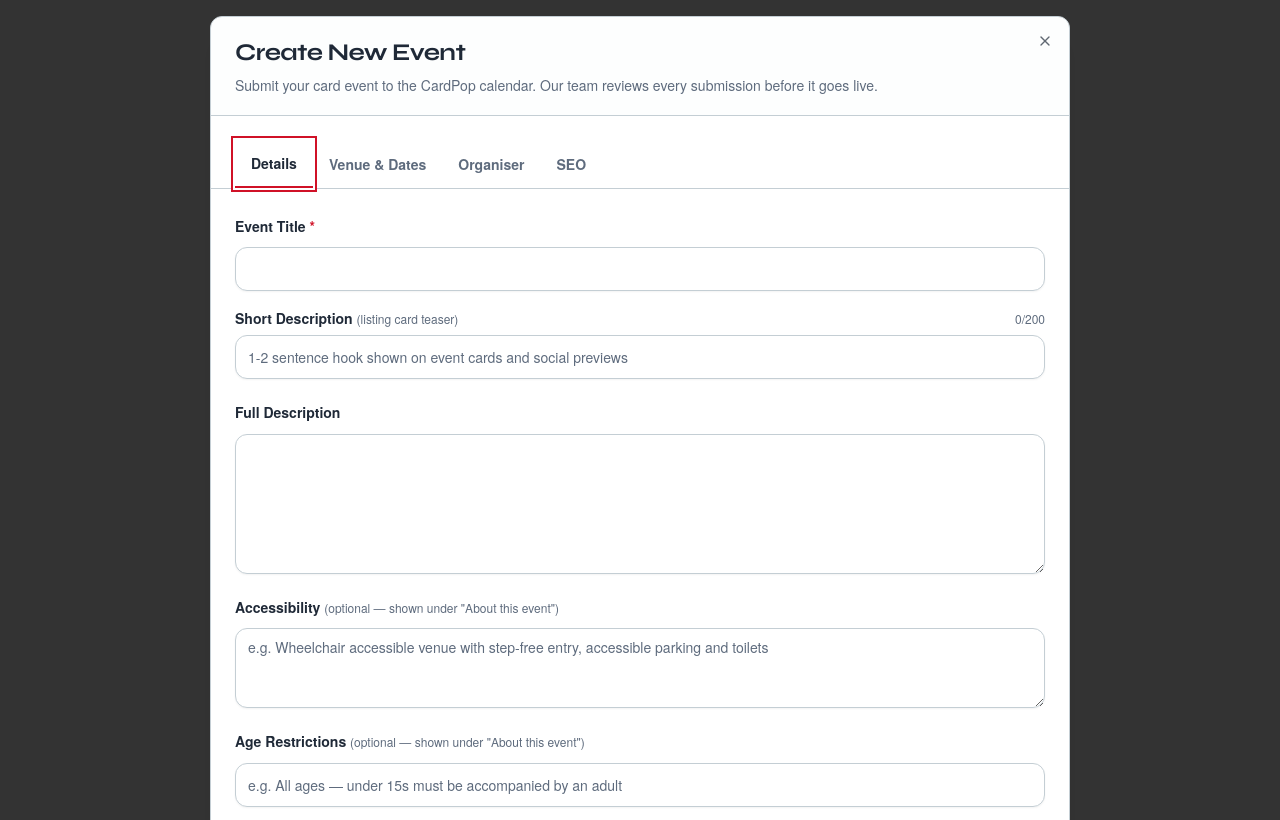
EventFormModal — ticket prices › offers every ticket type once entry is not free
Press the mouse on the tab "Organiser" at (491, 164), box top-left (442, 140), bottom-right (540, 188)
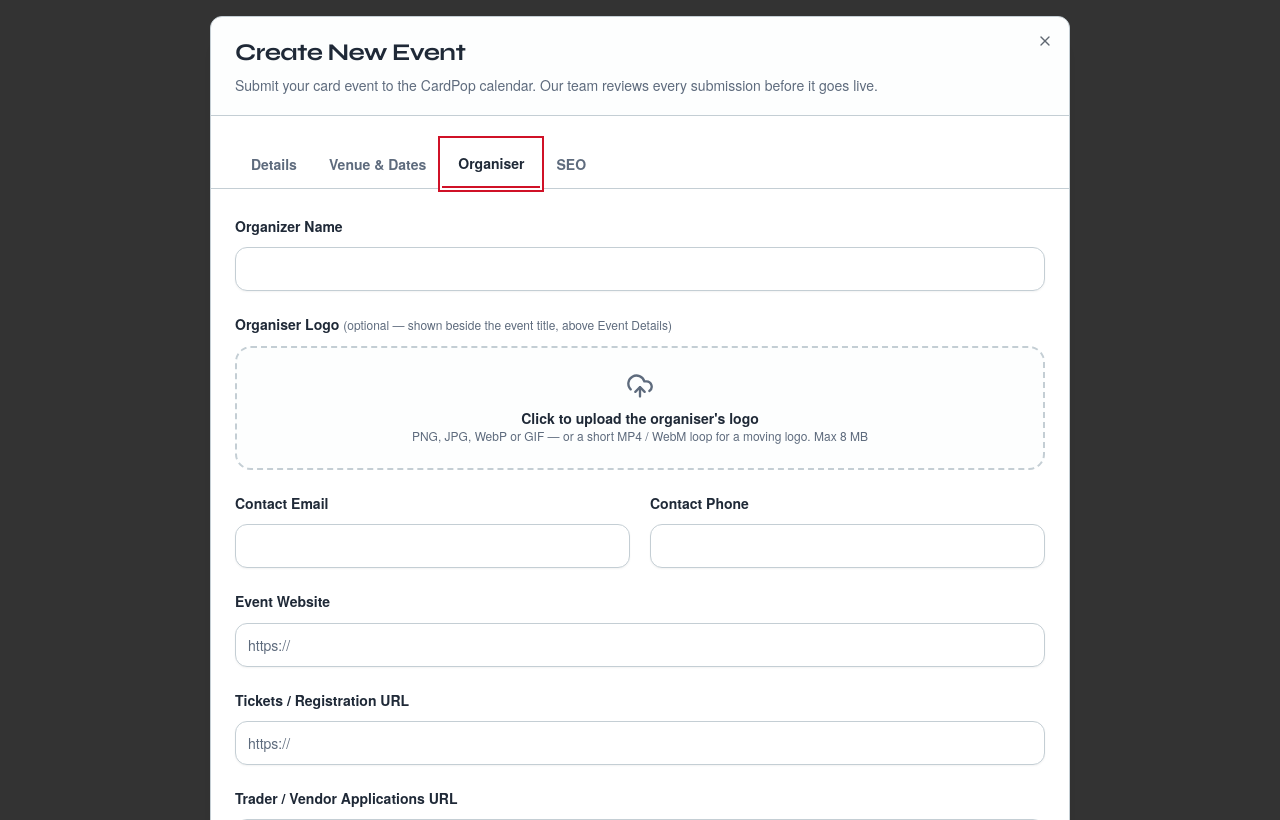
Click the tab "Organiser" at (491, 164), box top-left (442, 140), bottom-right (540, 188)
(page scrolled)
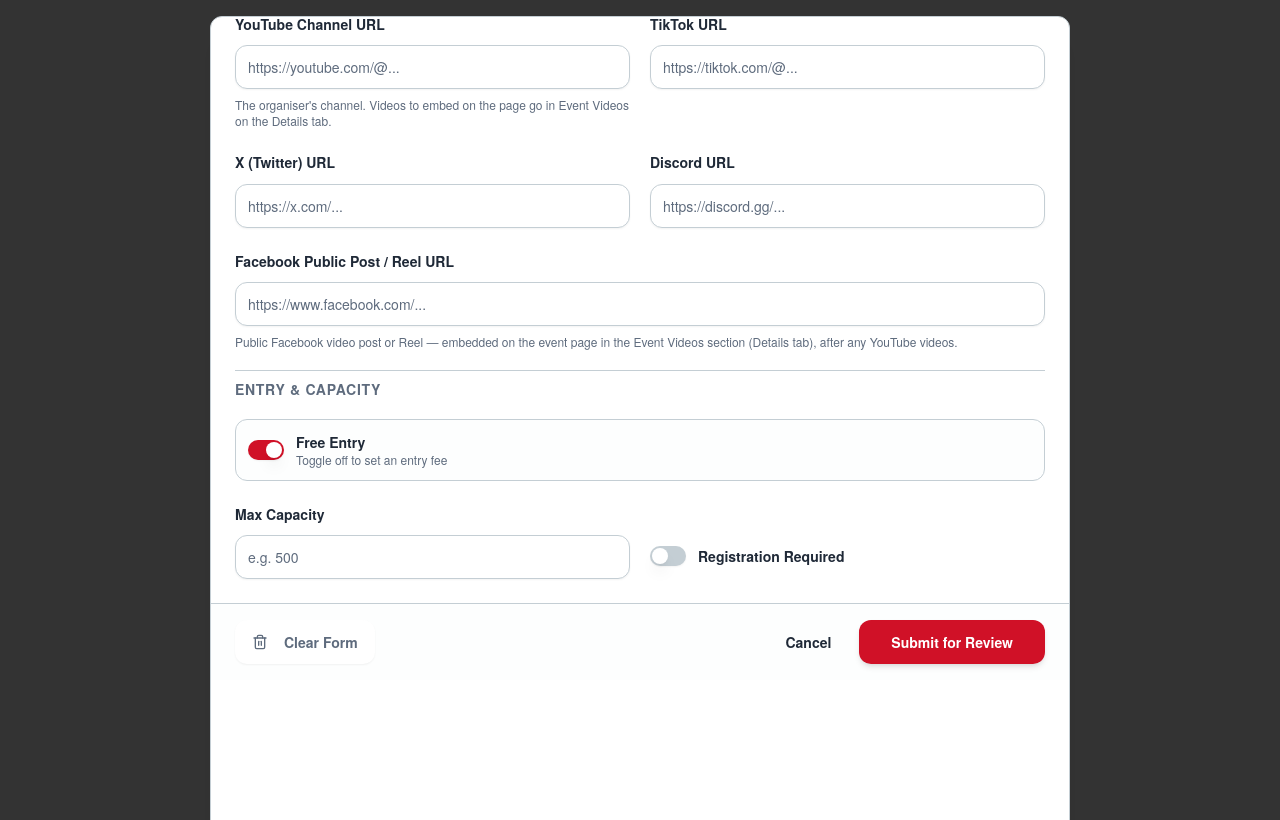
Check: the text "Other Ticket Prices" is not shown
Click the switch next to "Free Entry" at (266, 450), box top-left (248, 440), bottom-right (284, 460)
(page scrolled)
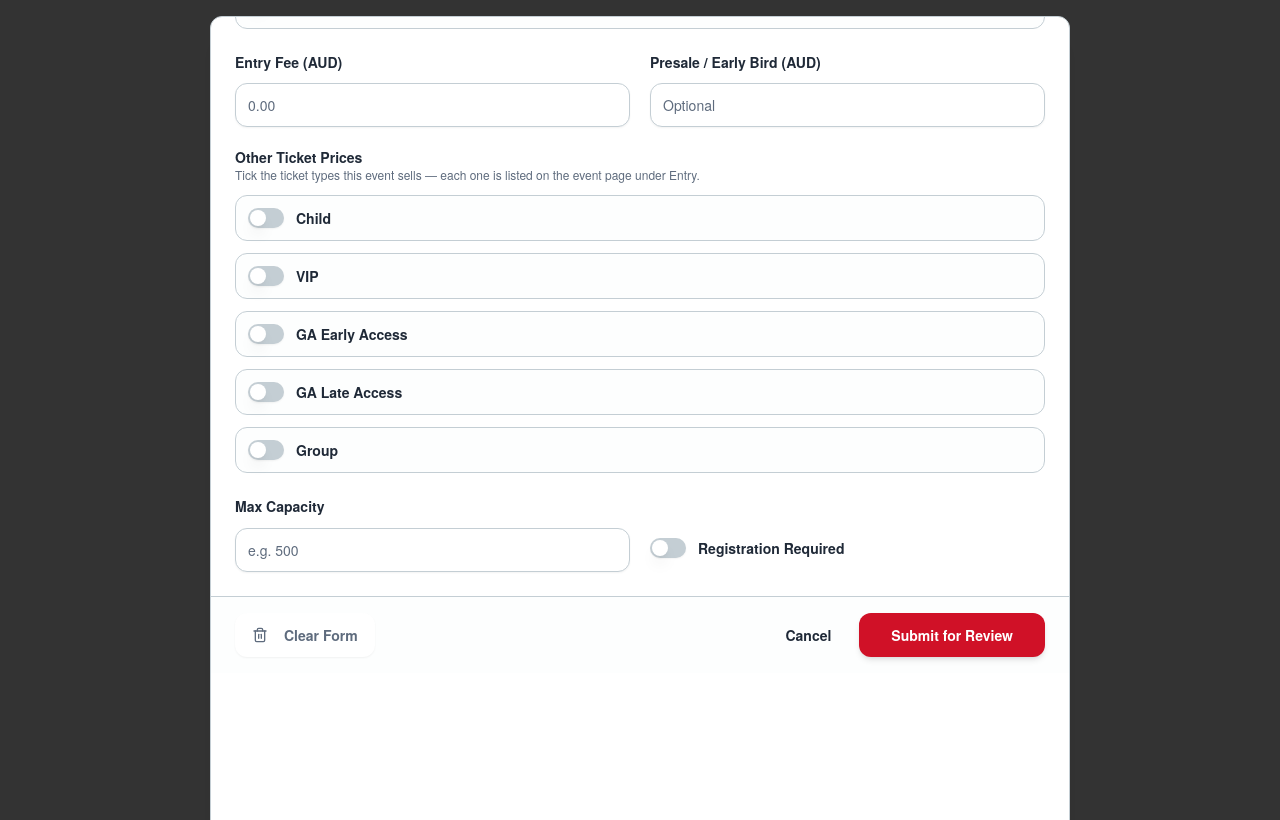
Check: the switch named "Child ticket" is shown, box top-left (248, 208), bottom-right (284, 228)
Check: the switch named "VIP ticket" is shown, box top-left (248, 266), bottom-right (284, 286)
Check: the switch named "GA Early Access ticket" is shown, box top-left (248, 324), bottom-right (284, 344)
Click the switch named "Group tickets" at (266, 450), box top-left (248, 440), bottom-right (284, 460)
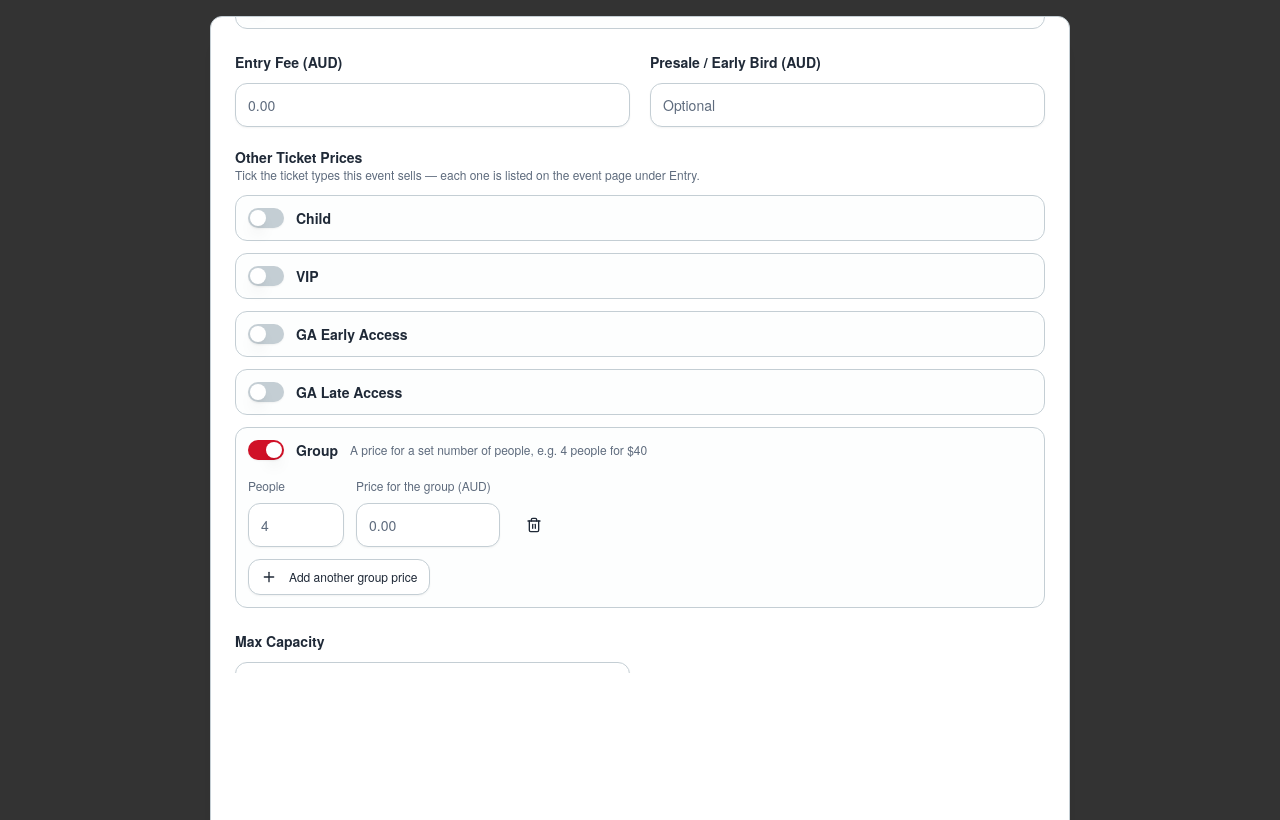
Check: the number field labelled "People" is shown, box top-left (248, 503), bottom-right (344, 547)
Click the button "Add another group price" at (339, 577), box top-left (248, 559), bottom-right (430, 595)
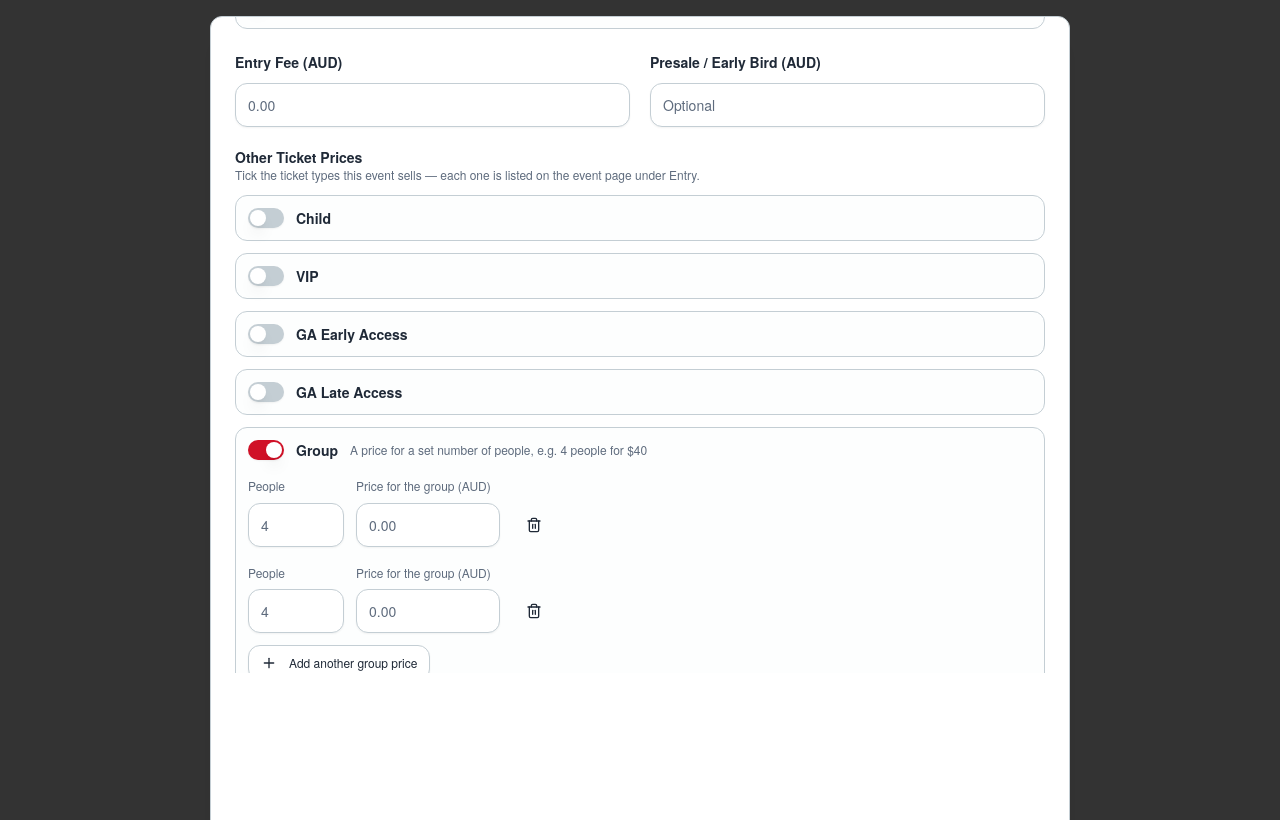
Check: the number of number fields labelled "People" is 2, box top-left (248, 503), bottom-right (344, 547); top-left (248, 589), bottom-right (344, 633)
